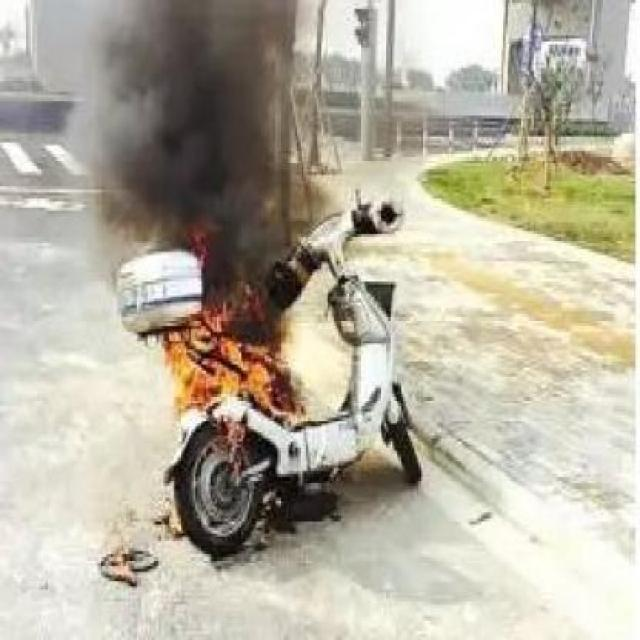Fire: (165, 328, 282, 404)
Smoke: (70, 3, 272, 300), (174, 13, 280, 339)
